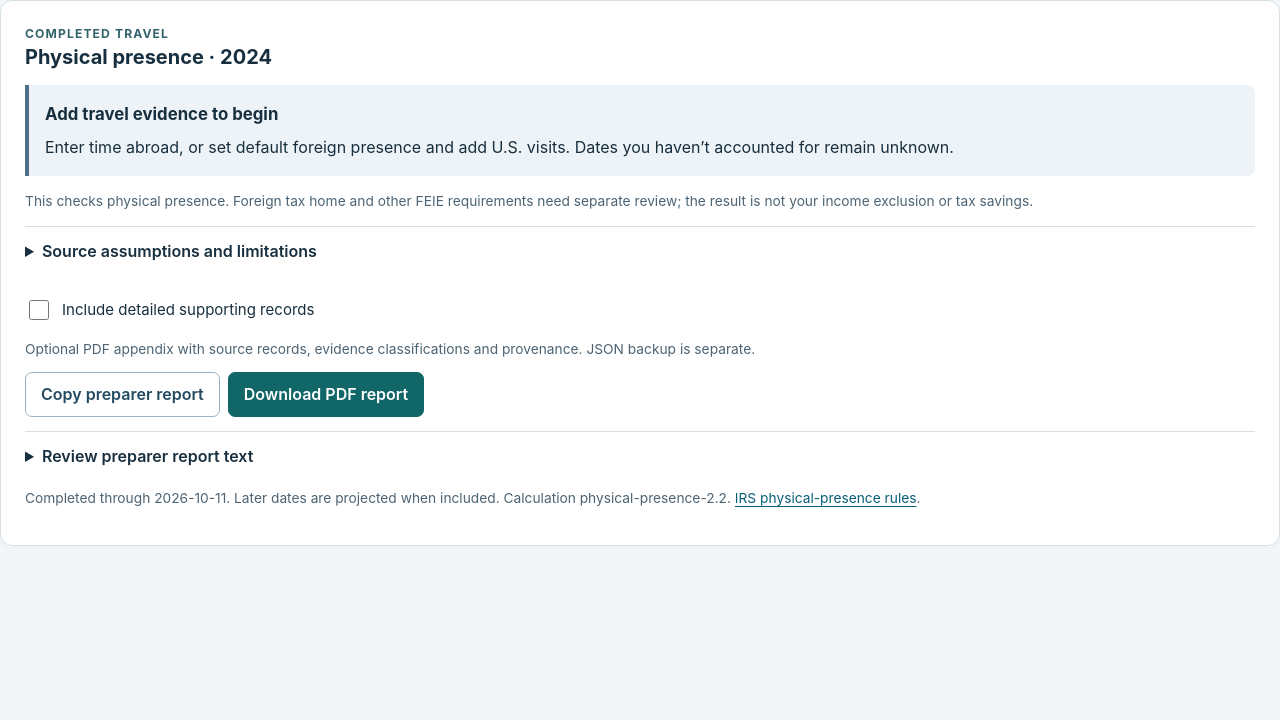
Test: report export fallbacks › adds the detailed appendix only when selected
The width and height of the screenshot is (1280, 720).
Click the checkbox labelled "Include detailed supporting records": point(39, 310) [29,300,49,320]
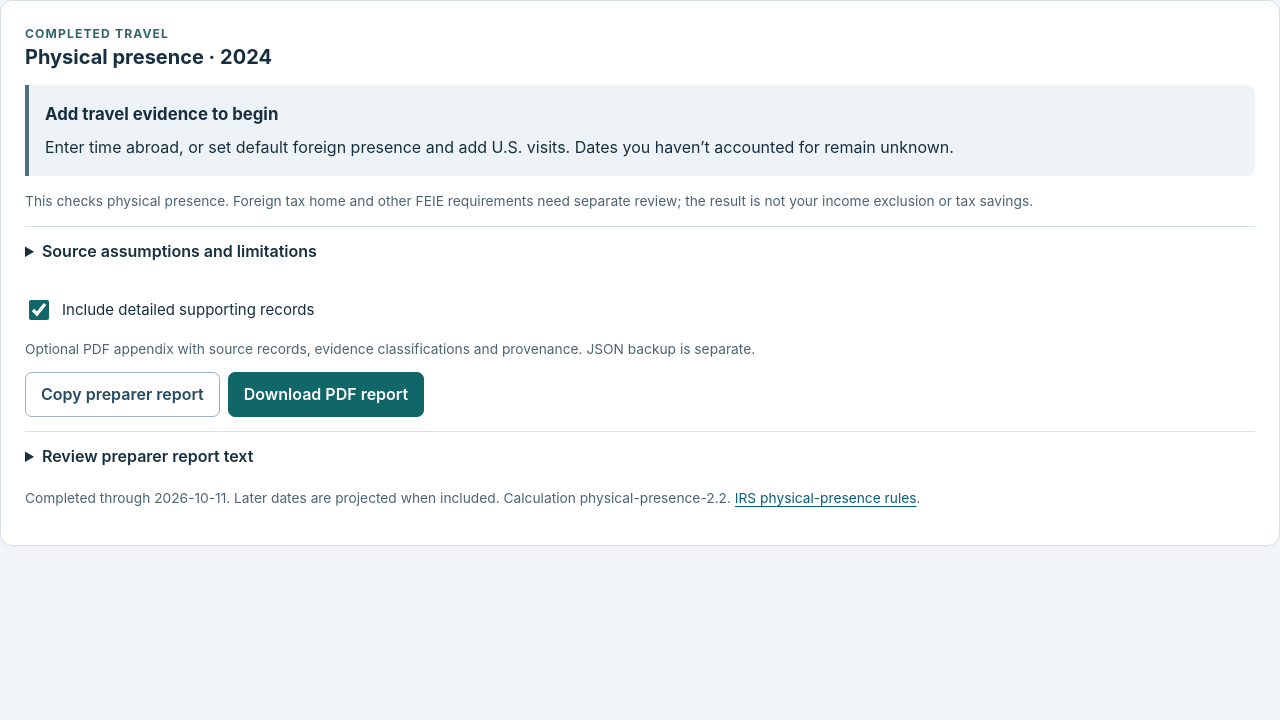
Click the button "Download PDF report": point(326, 394) [228,372,424,417]
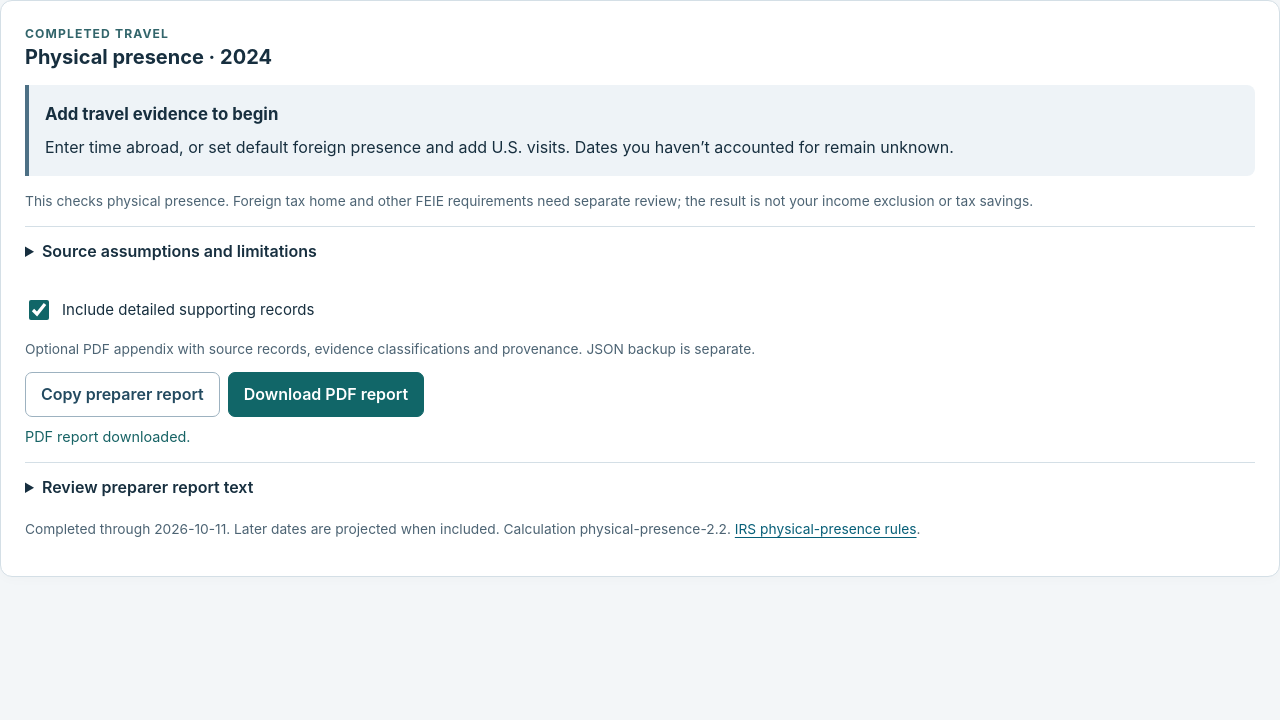
Result: the text "PDF report downloaded." is shown at [25,428,190,445]
